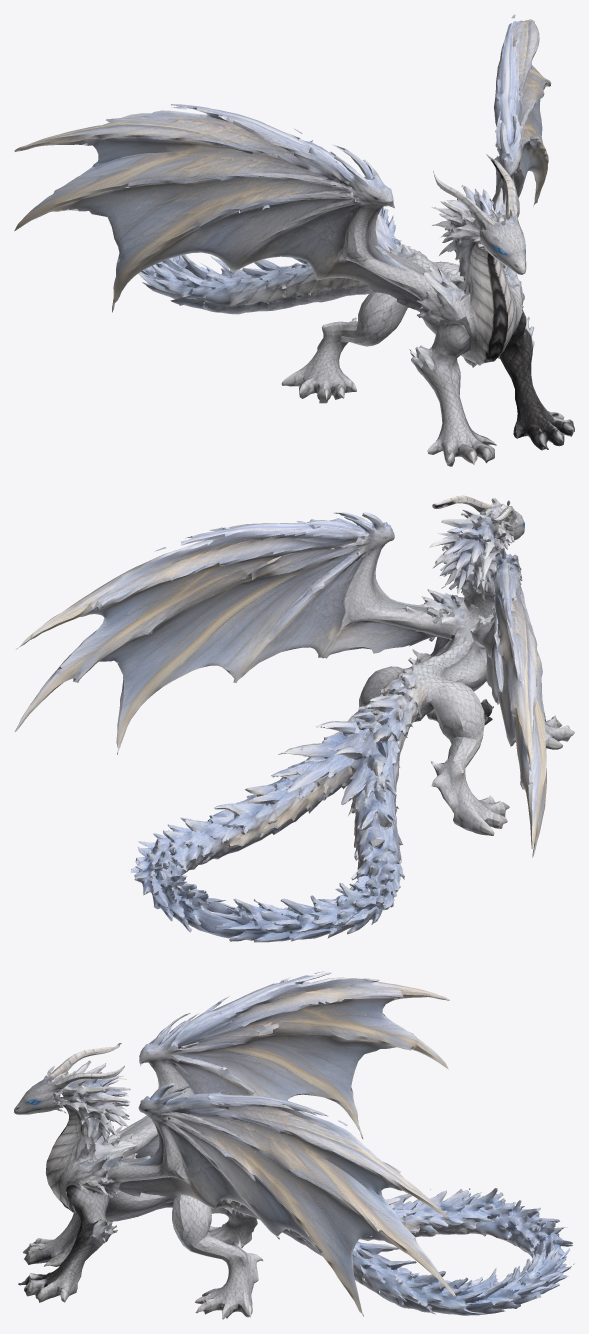
Rendered from everwing_white.glb.
3 views of the same model, one above another, from view 1: azimuth 30°, elevation 25°; view 2: azimuth 150°, elevation 25°; view 3: azimuth 270°, elevation 25° (orthographic). The views are drawn at different scales.
Parts seen in each view (by area): view 1: Mesh_0; view 2: Mesh_0; view 3: Mesh_0.
Boxes of the visible parts, <box> form: Mesh_0: <box>14,14,574,466</box>; Mesh_0: <box>15,495,574,942</box>; Mesh_0: <box>14,971,574,1319</box>.
Bounding box in the file's own units: 1.76 × 0.8698 × 1.88.
Materials: 1 (1 with a texture image).
